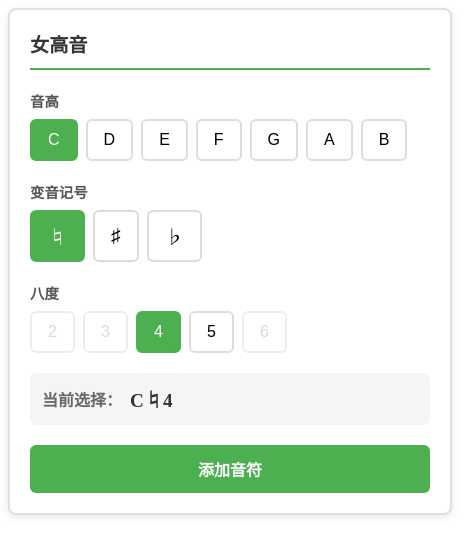
Test: NoteInput 组件 › 应该允许选择音高
Click the button with test id "pitch-D".
click(109, 140)  # box [86, 119, 133, 161]
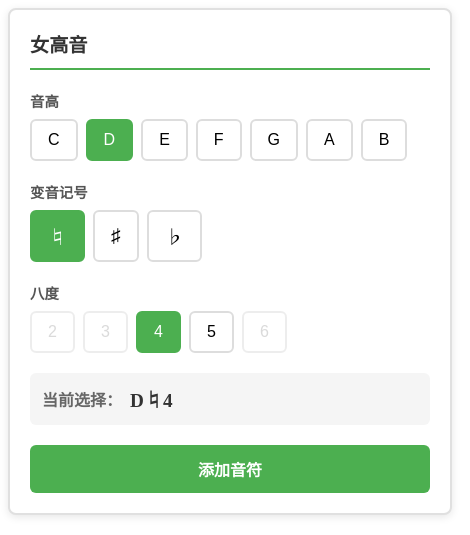
Result: the text with test id "current-selection-value" shows "D" at [130, 390, 144, 411]
